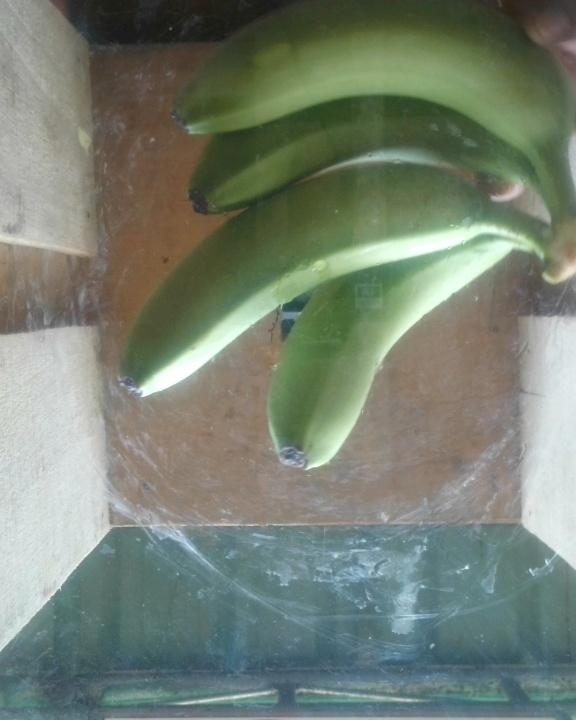SPOT: (117, 2, 576, 479)
